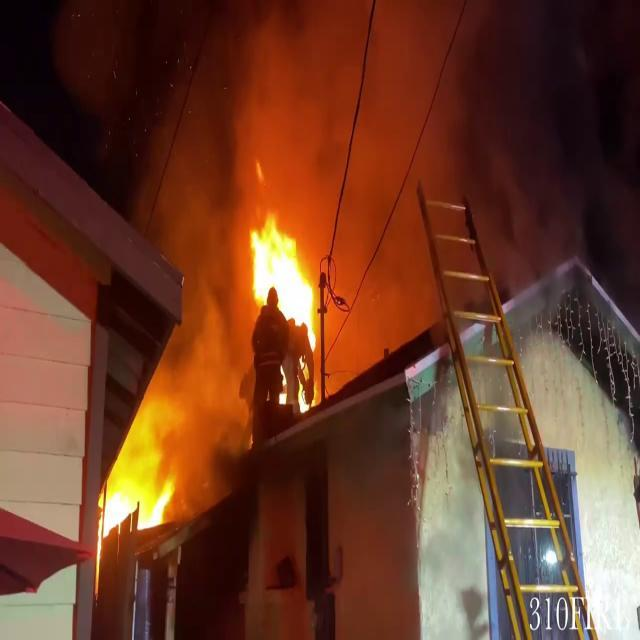Fire: (246, 205, 326, 391), (99, 452, 176, 542)
Smoke: (96, 0, 535, 276)
